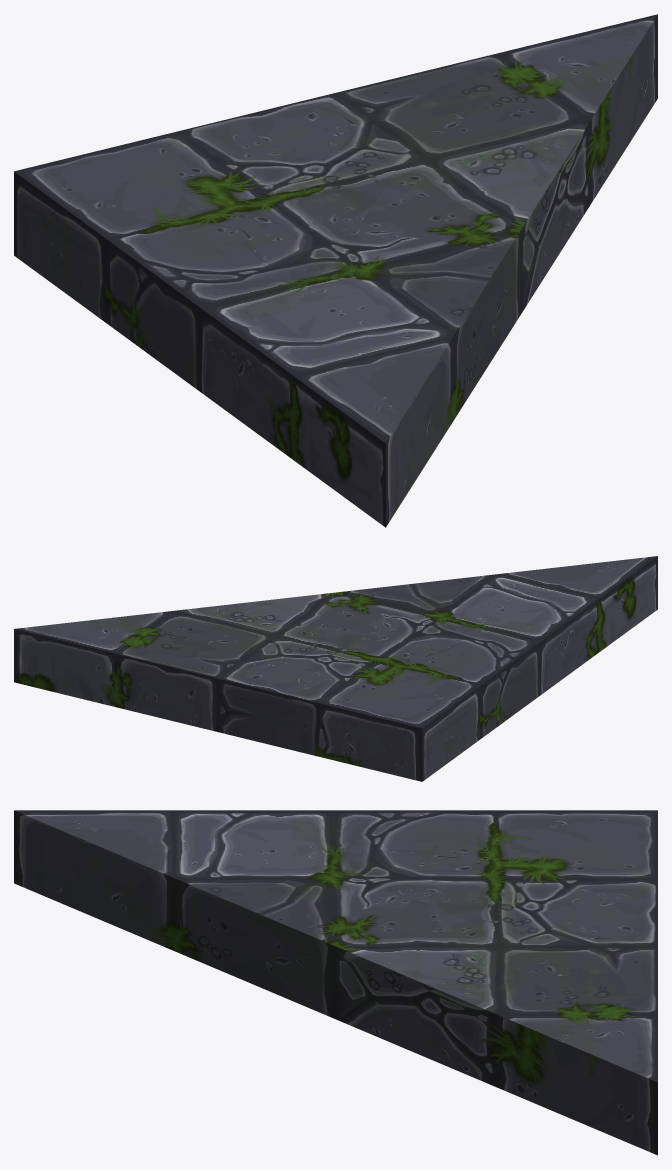
Rendered from MOD_Floor_01_E_angle_med.fbx.
The picture shows the model from 3 angles, top to bottom: view 1: azimuth 30°, elevation 25°; view 2: azimuth 150°, elevation 25°; view 3: azimuth 270°, elevation 25°; orthographic projection. The views are drawn at different scales.
Parts seen in each view (by area): view 1: MOD_Floor_01_E_angle_med; view 2: MOD_Floor_01_E_angle_med; view 3: MOD_Floor_01_E_angle_med.
Part boxes in pixels (x1,y1,x2,y2): MOD_Floor_01_E_angle_med: (14, 14, 657, 527); MOD_Floor_01_E_angle_med: (14, 556, 657, 781); MOD_Floor_01_E_angle_med: (14, 810, 657, 1155).
Bounding box in the file's own units: 400 × 50 × 400.
